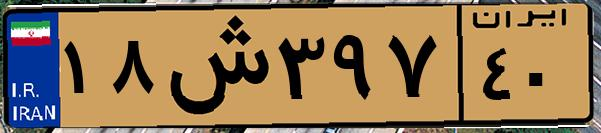0: (525, 38, 570, 115)
1: (57, 26, 110, 100)
3: (270, 28, 330, 110)
4: (475, 38, 525, 113)
7: (385, 28, 445, 110)
8: (110, 28, 158, 98)
9: (330, 28, 385, 110)
ش: (158, 12, 270, 120)
